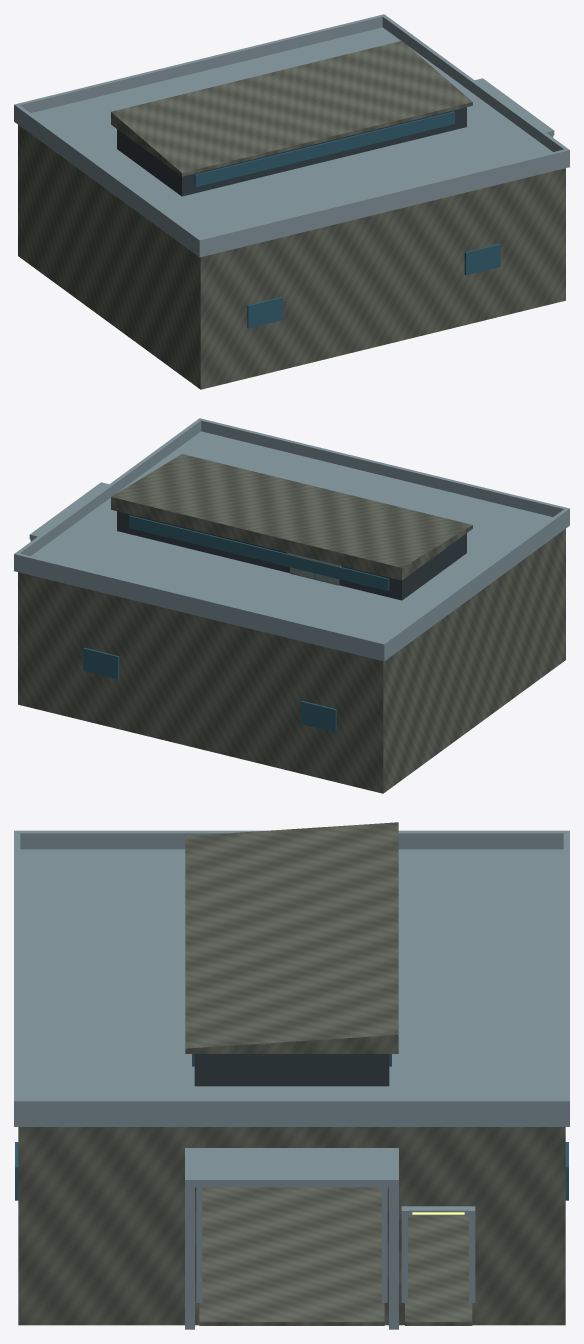
Rendered from Mine_AccessSupport.glb.
The picture shows the model from 3 angles, top to bottom: view 1: azimuth 30°, elevation 25°; view 2: azimuth 150°, elevation 25°; view 3: azimuth 270°, elevation 25°; orthographic projection. The views are drawn at different scales.
Visible parts, largest first — view 1: Mine_AccessSupport_GroundShell, Mine_AccessSupport_Roof, Mine_AccessSupport_RoofMonitor, Mine_AccessSupport_Foundation, Mine_AccessSupport_GroundWindows, Mine_AccessSupport_PortalFixture; view 2: Mine_AccessSupport_GroundShell, Mine_AccessSupport_Roof, Mine_AccessSupport_RoofMonitor, Mine_AccessSupport_Foundation, Mine_AccessSupport_GroundWindows, Mine_AccessSupport_PortalFixture, Mine_AccessSupport_RoofPlant; view 3: Mine_AccessSupport_Roof, Mine_AccessSupport_GroundShell, Mine_AccessSupport_RoofMonitor, Mine_AccessSupport_Foundation, Mine_AccessSupport_PortalFixture, Mine_AccessSupport_ThresholdRamp, Mine_AccessSupport_PortalFrame.
Part boxes in pixels (x1,y1,x2,y2): Mine_AccessSupport_GroundShell: [18, 125, 565, 371]; Mine_AccessSupport_Roof: [14, 14, 569, 257]; Mine_AccessSupport_RoofMonitor: [111, 41, 472, 196]; Mine_AccessSupport_Foundation: [18, 238, 565, 389]; Mine_AccessSupport_GroundWindows: [247, 243, 500, 328]; Mine_AccessSupport_PortalFixture: [475, 78, 554, 137]; Mine_AccessSupport_GroundShell: [18, 529, 565, 775]; Mine_AccessSupport_Roof: [14, 418, 569, 661]; Mine_AccessSupport_RoofMonitor: [111, 454, 472, 600]; Mine_AccessSupport_Foundation: [18, 642, 565, 793]; Mine_AccessSupport_GroundWindows: [83, 647, 336, 732]; Mine_AccessSupport_PortalFixture: [29, 482, 108, 541]; Mine_AccessSupport_RoofPlant: [287, 552, 341, 585]; Mine_AccessSupport_Roof: [14, 830, 569, 1126]; Mine_AccessSupport_GroundShell: [18, 1127, 565, 1298]; Mine_AccessSupport_RoofMonitor: [185, 822, 398, 1086]; Mine_AccessSupport_Foundation: [18, 1187, 565, 1325]; Mine_AccessSupport_PortalFixture: [185, 1148, 398, 1329]; Mine_AccessSupport_ThresholdRamp: [199, 1298, 472, 1325]; Mine_AccessSupport_PortalFrame: [196, 1187, 475, 1302].
Bounding box in the file's own units: 16.9 × 6.9 × 13.2.
7 materials, 2 textured.
